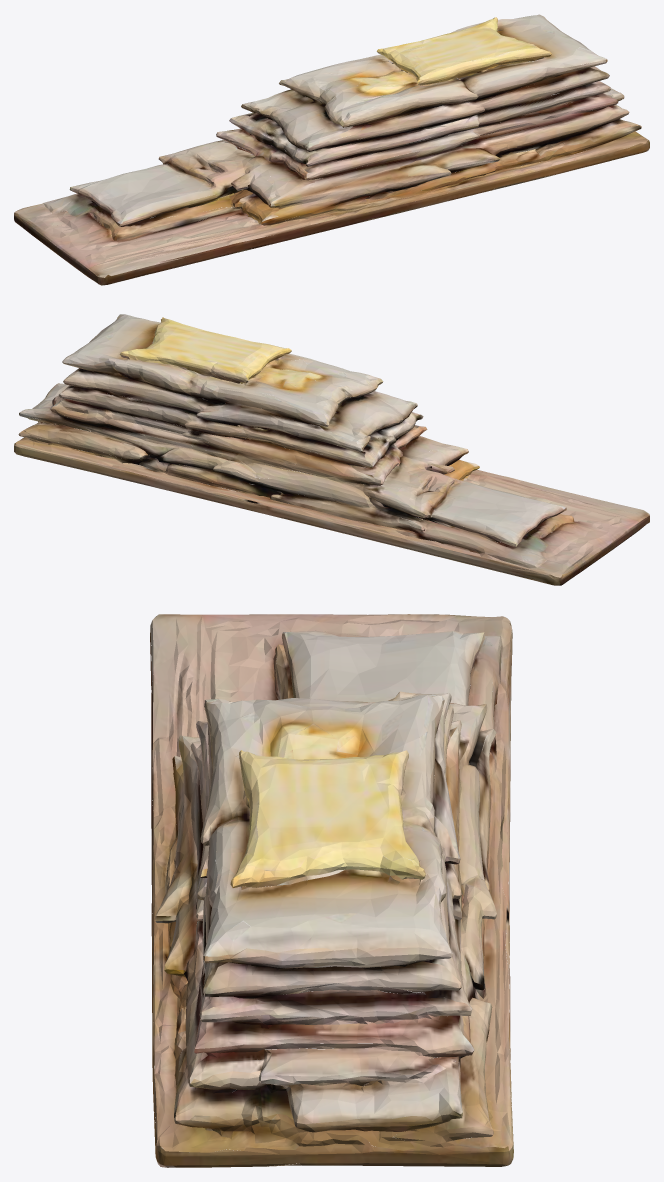
File: wt-outpost-sandbags.glb
The picture shows the model from 3 angles, top to bottom: view 1: azimuth 30°, elevation 25°; view 2: azimuth 150°, elevation 25°; view 3: azimuth 270°, elevation 25°; orthographic projection. The views are drawn at different scales.
Visible parts, largest first — view 1: tmp4dbssgzj.ply; view 2: tmp4dbssgzj.ply; view 3: tmp4dbssgzj.ply.
Boxes of the visible parts, box(x1,y1,x2,y2) form: tmp4dbssgzj.ply: box(14, 14, 649, 285); tmp4dbssgzj.ply: box(14, 314, 649, 585); tmp4dbssgzj.ply: box(150, 614, 513, 1167).
Size of the model in its own units: 4 by 0.7521 by 1.12.
1 material, 1 textured.
